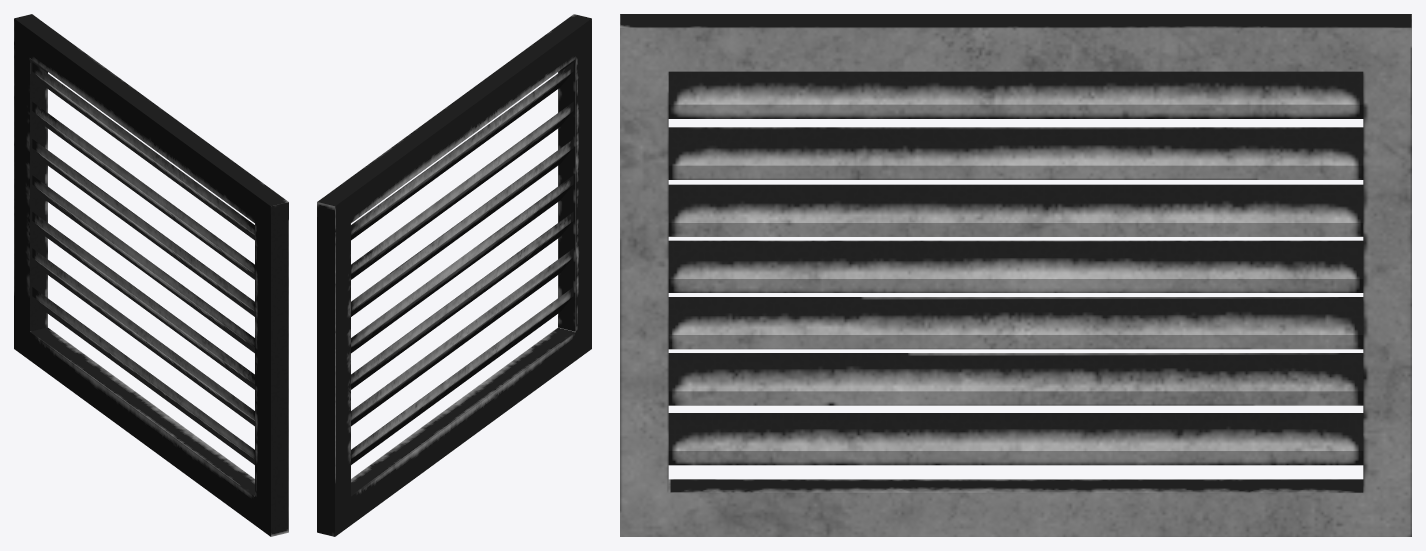
File: ventilation_grate_1.fbx
The picture shows the model from 3 angles, left to right: view 1: azimuth 30°, elevation 25°; view 2: azimuth 150°, elevation 25°; view 3: azimuth 270°, elevation 25°; orthographic projection. The views are drawn at different scales.
Parts seen in each view (by area): view 1: ventilation_grate_1; view 2: ventilation_grate_1; view 3: ventilation_grate_1.
Part boxes in pixels (bbox=[...]): ventilation_grate_1: bbox=[14, 14, 288, 536]; ventilation_grate_1: bbox=[317, 14, 591, 536]; ventilation_grate_1: bbox=[620, 14, 1411, 536].
Size of the model in its own units: 7.68 by 135 by 190.
